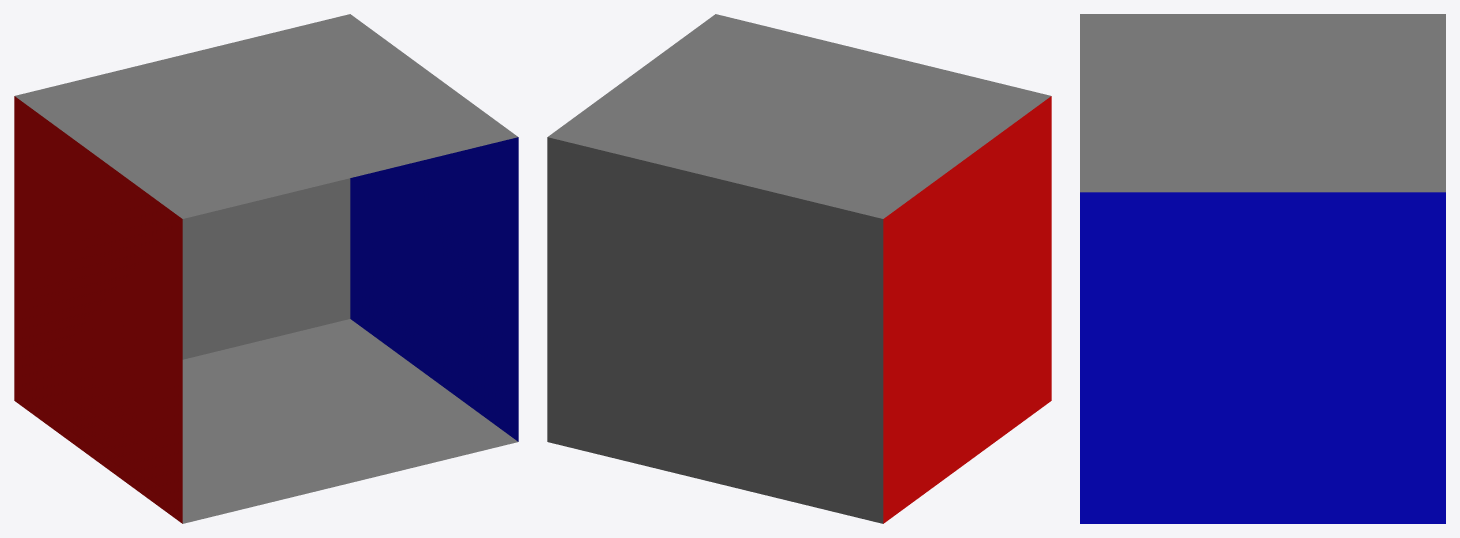
The model's file is notransmirror.obj.
The picture shows the model from 3 angles, left to right: view 1: azimuth 30°, elevation 25°; view 2: azimuth 150°, elevation 25°; view 3: azimuth 270°, elevation 25°; orthographic projection. The views are drawn at different scales.
Visible parts, largest first — view 1: pCube1; view 2: pCube1; view 3: pCube1.
Part boxes in pixels (x1,y1,x2,y2): pCube1: (14,14,518,523); pCube1: (547,14,1051,523); pCube1: (1080,14,1445,523).
Bounding box in the file's own units: 11.53 × 10 × 10.
